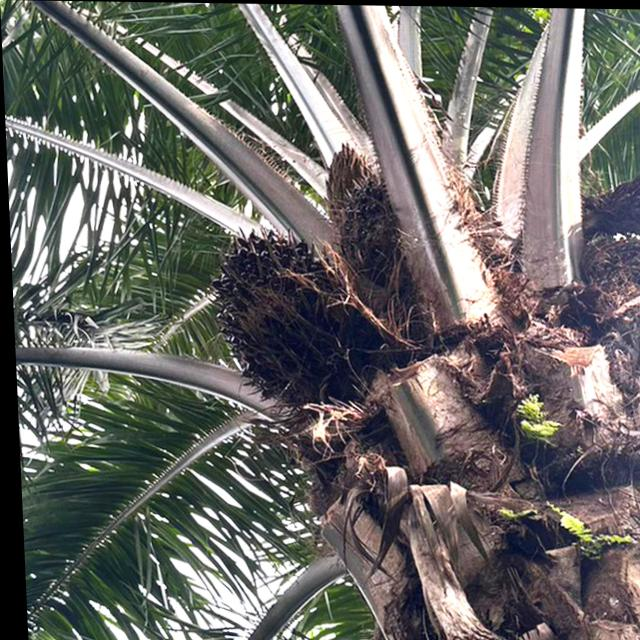ripe: (209, 227, 380, 399), (333, 165, 436, 328)
